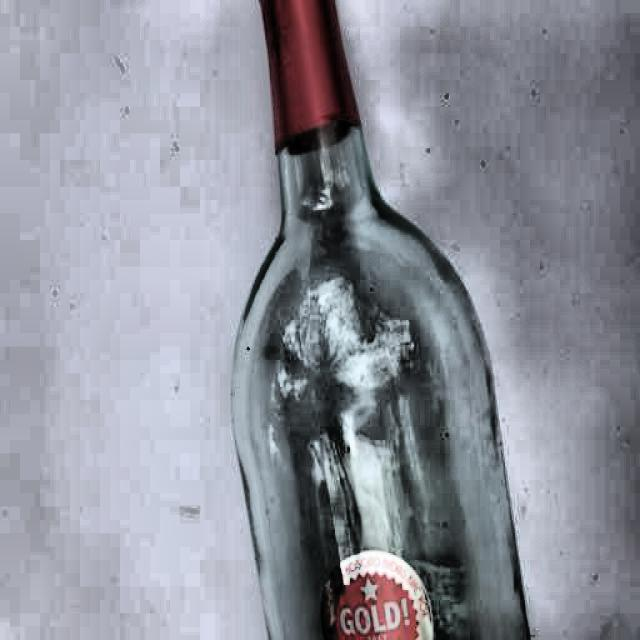glass: (225, 0, 531, 640)
